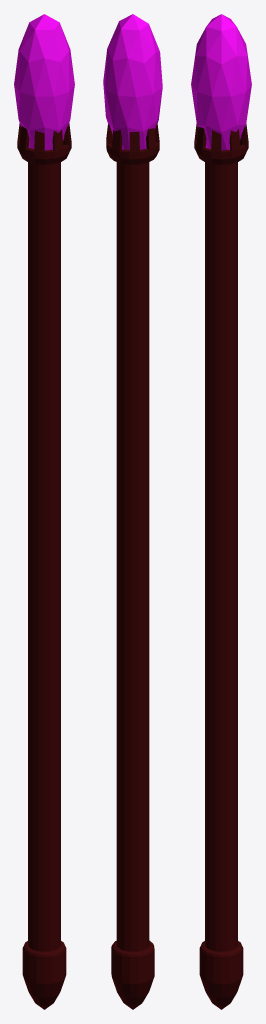
File: EnemyStaff.fbx
3 renders of one model, left to right at view 1: azimuth 90°, elevation 25°; view 2: azimuth 150°, elevation 25°; view 3: azimuth 270°, elevation 25°, orthographic.
Parts seen in each view (by area): view 1: Icosphere; view 2: Icosphere; view 3: Icosphere.
Part boxes in pixels (x1,y1,x2,y2): Icosphere: (14,14,74,1009); Icosphere: (103,14,162,1009); Icosphere: (191,14,251,1009).
Size of the model in its own units: 34.95 by 663 by 36.75.
